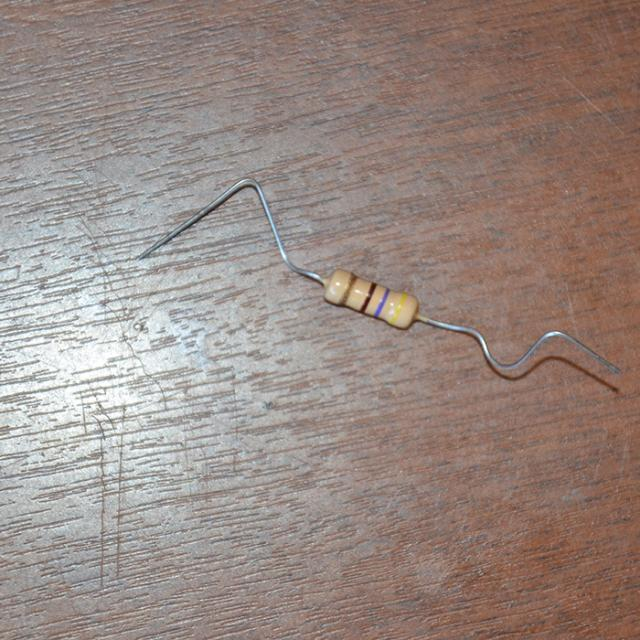brown: (359, 281, 376, 311)
gold: (340, 273, 357, 304)
resistor: (306, 247, 439, 343)
violet: (372, 288, 389, 317)
yellow: (389, 293, 406, 325)
